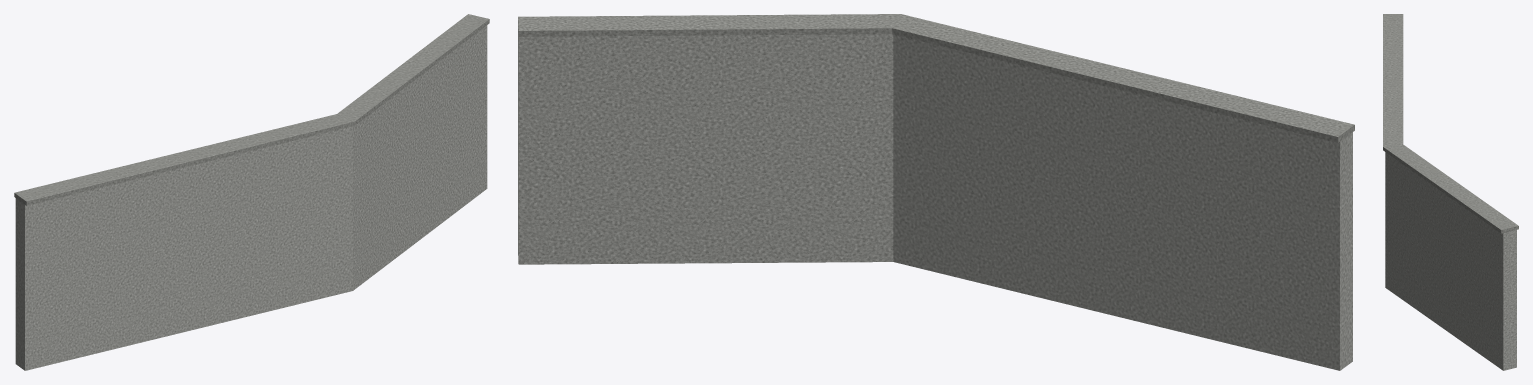
3 views of the same model, side by side, from view 1: azimuth 30°, elevation 25°; view 2: azimuth 150°, elevation 25°; view 3: azimuth 270°, elevation 25° (orthographic). The views are drawn at different scales.
Parts seen in each view (by area): view 1: wall.concrete (×2); view 2: wall.concrete (×2); view 3: wall.concrete (×2).
Part boxes in pixels (<box>): wall.concrete (×2): <box>14,14,489,370</box>; wall.concrete (×2): <box>518,14,1354,370</box>; wall.concrete (×2): <box>1383,14,1518,370</box>.
Bounding box in the file's own units: 6.57 × 1.74 × 2.
2 materials, 2 textured.
